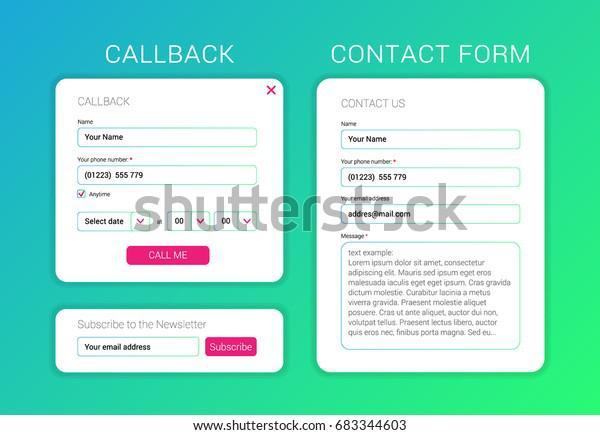button: (127, 247, 210, 266), (206, 338, 257, 357)
checkbox: (79, 191, 87, 199)
dropdown: (79, 214, 150, 232), (169, 212, 211, 232), (216, 213, 257, 232)
input: (342, 168, 522, 188), (79, 128, 258, 147), (79, 167, 258, 186), (343, 205, 521, 224), (342, 131, 521, 149), (78, 337, 200, 357)
label: (78, 156, 134, 165), (341, 158, 398, 165), (343, 195, 390, 203), (89, 191, 115, 199), (341, 234, 370, 241), (341, 120, 358, 129), (78, 119, 97, 126)
